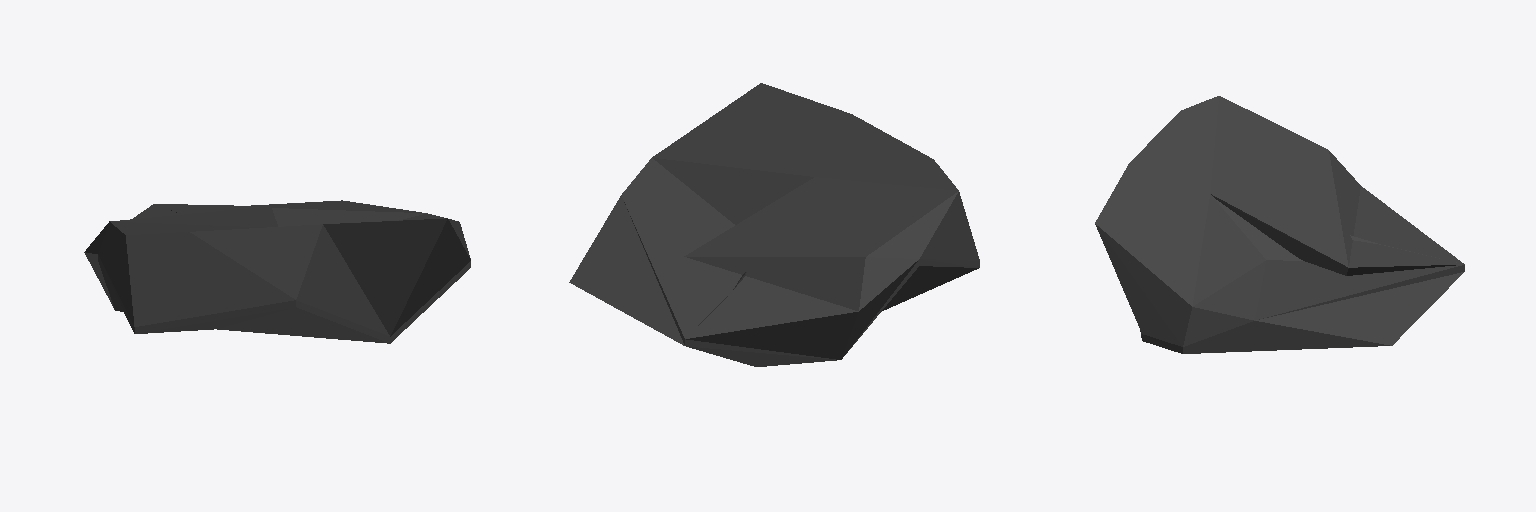
File: large_rock.obj
3 views of the same model, side by side, from view 1: azimuth 30°, elevation 25°; view 2: azimuth 150°, elevation 25°; view 3: azimuth 270°, elevation 25° (orthographic).
Visible parts, largest first — view 1: Large_Rock_Mesh.010; view 2: Large_Rock_Mesh.010; view 3: Large_Rock_Mesh.010.
Part boxes in pixels (bbox=[...]): Large_Rock_Mesh.010: bbox=[84, 200, 470, 343]; Large_Rock_Mesh.010: bbox=[569, 83, 979, 366]; Large_Rock_Mesh.010: bbox=[1095, 96, 1464, 353].
Size of the model in its own units: 24.11 by 12.28 by 23.18.